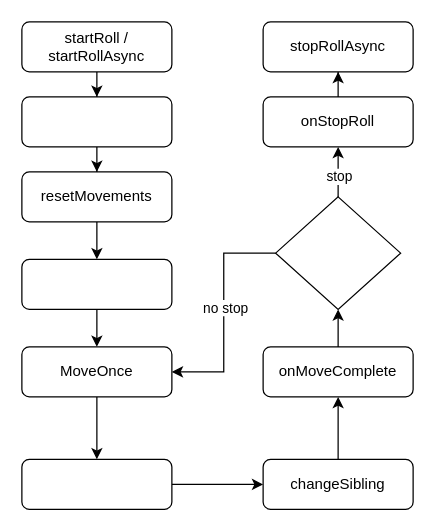
The diagram is 435 pixels wide and 531 high, and some of its shapes have lost their labels. Here are the shapes that lost their labels. From the top down, the centre of each, then its label:
At [96,121]: "onStartRoll".
At [337,252]: "MoveOnceComplete".
At [96,283]: "onMoveOnceStart".
At [96,483]: "reArrageIcon".
